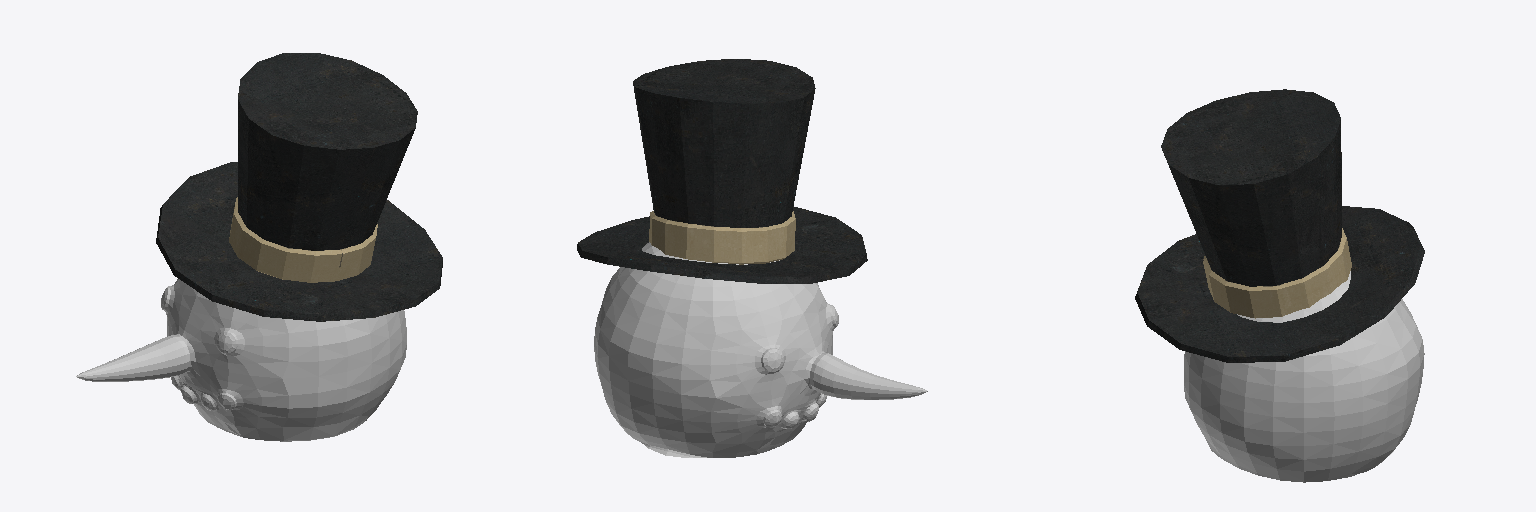
3 renders of one model, left to right at view 1: azimuth 30°, elevation 25°; view 2: azimuth 150°, elevation 25°; view 3: azimuth 270°, elevation 25°, orthographic.
Visible parts, largest first — view 1: snowmanhat:snowmanhatmesh_snowmanhat:snowmanhatmat1_0, snowman:snowmanmesh_snowman:snowmanmat1_0; view 2: snowmanhat:snowmanhatmesh_snowmanhat:snowmanhatmat1_0, snowman:snowmanmesh_snowman:snowmanmat1_0; view 3: snowmanhat:snowmanhatmesh_snowmanhat:snowmanhatmat1_0, snowman:snowmanmesh_snowman:snowmanmat1_0.
Part boxes in pixels (x1,y1,x2,y2): snowmanhat:snowmanhatmesh_snowmanhat:snowmanhatmat1_0: (156, 53, 442, 321); snowman:snowmanmesh_snowman:snowmanmat1_0: (76, 279, 406, 441); snowmanhat:snowmanhatmesh_snowmanhat:snowmanhatmat1_0: (577, 59, 867, 283); snowman:snowmanmesh_snowman:snowmanmat1_0: (594, 242, 927, 457); snowmanhat:snowmanhatmesh_snowmanhat:snowmanhatmat1_0: (1135, 89, 1424, 362); snowman:snowmanmesh_snowman:snowmanmat1_0: (1184, 271, 1424, 482).
Bounding box in the file's own units: 1.91 × 1.79 × 1.41.
2 materials, 1 textured.